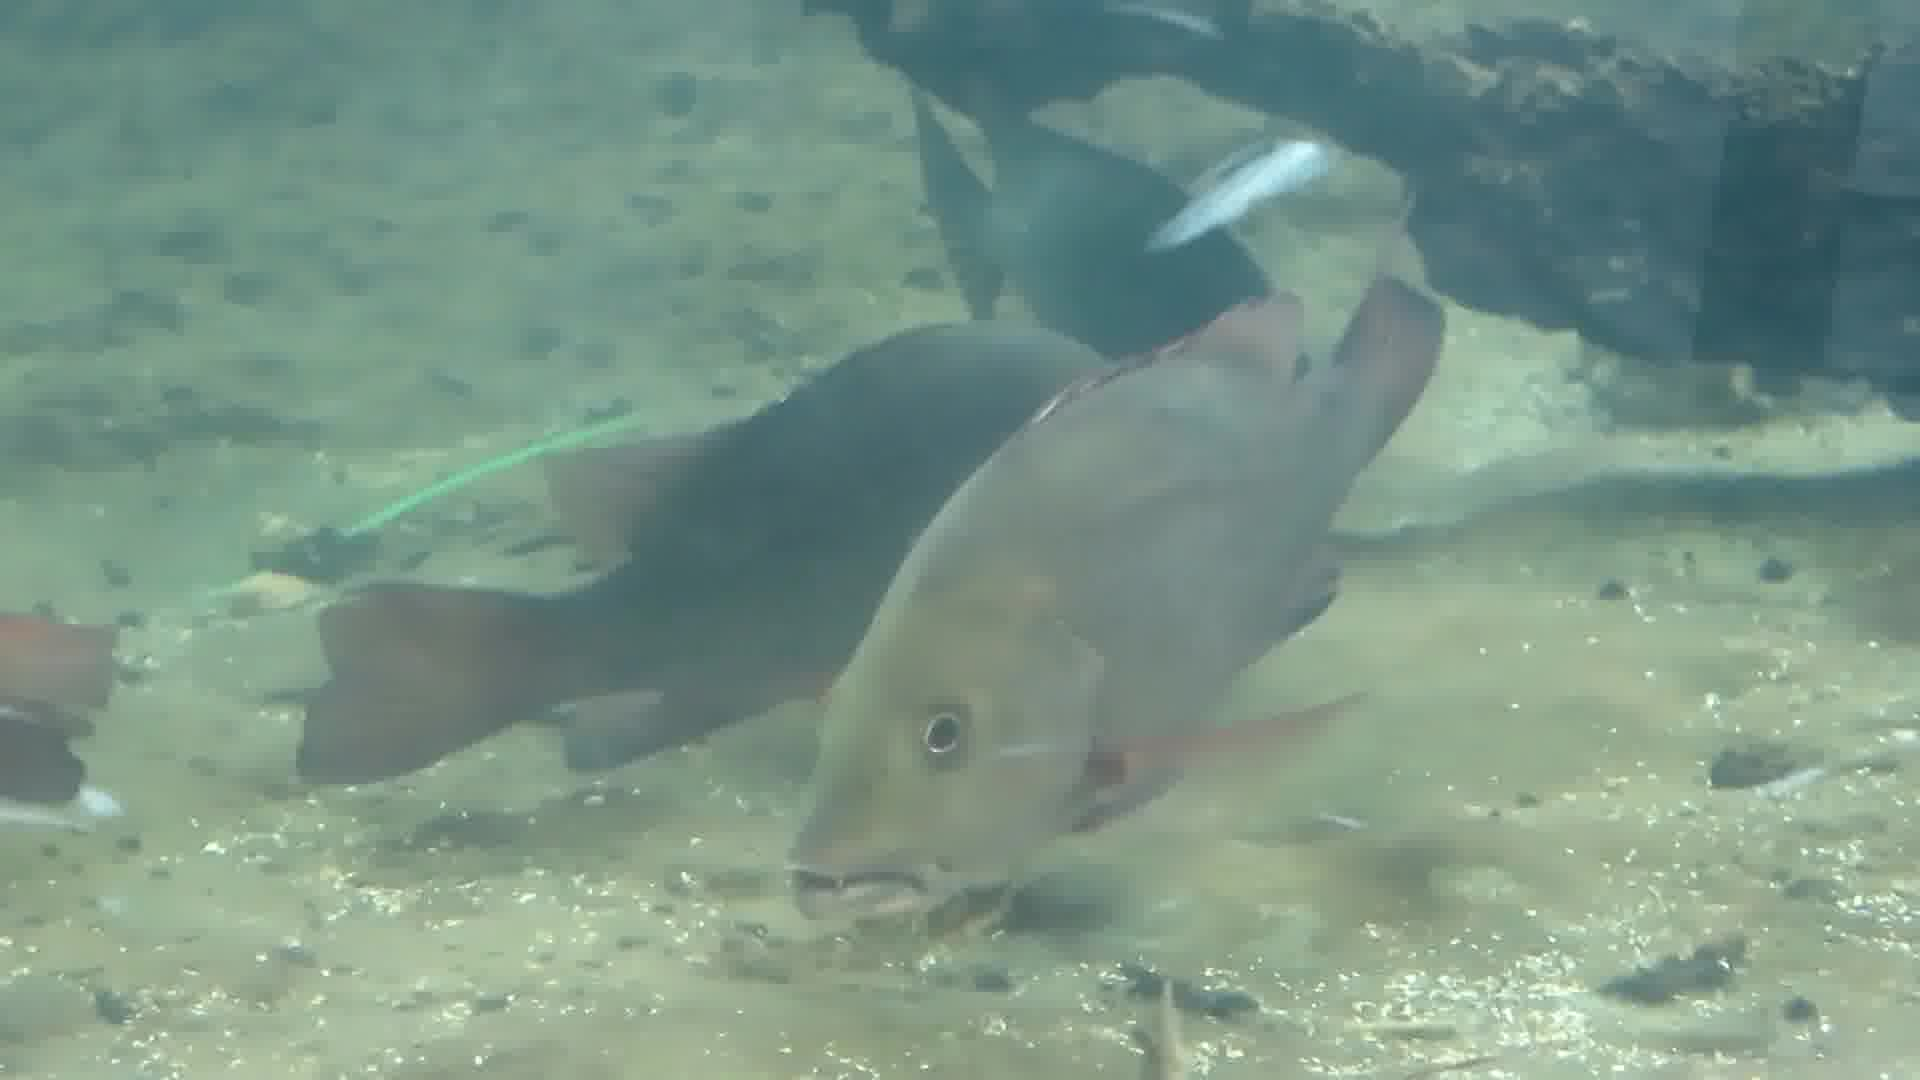Lutjanus argentimaculatus: (818, 315, 1370, 963)
